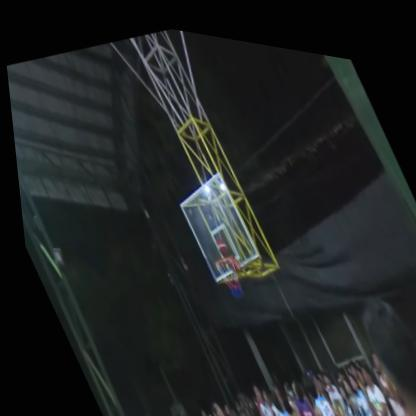basketball: (205, 221, 230, 254)
rim: (203, 243, 247, 300)
